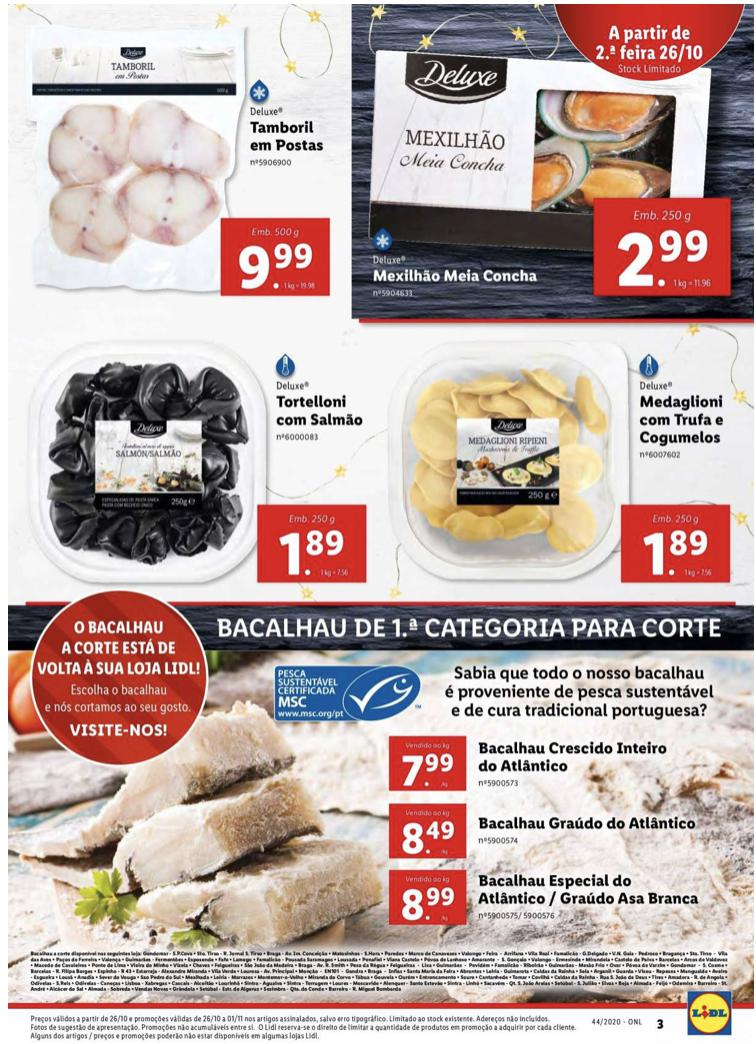name: (476, 870, 705, 908), (475, 740, 670, 774), (475, 813, 702, 839)
price: (614, 224, 718, 297), (233, 243, 324, 295), (275, 528, 355, 579), (640, 523, 714, 578), (396, 811, 463, 860), (396, 752, 457, 789), (400, 886, 459, 923)
product: (358, 17, 745, 308), (24, 19, 339, 327), (385, 335, 748, 588), (27, 340, 385, 588), (114, 867, 727, 931), (114, 797, 726, 860), (122, 731, 724, 787)
